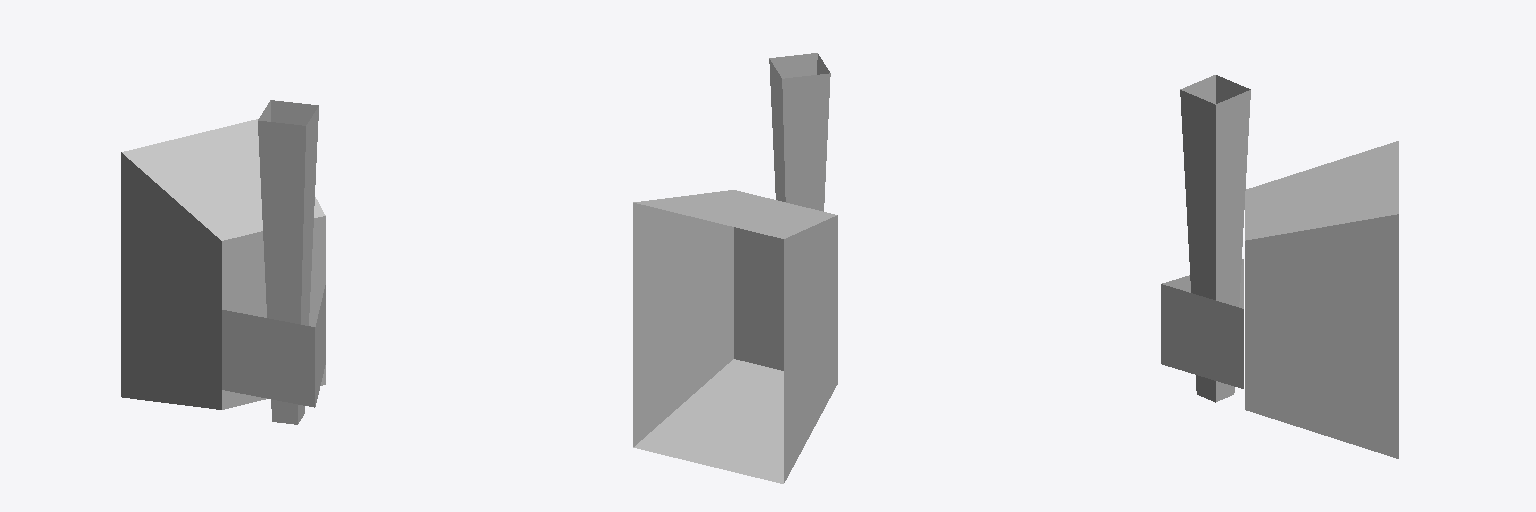
Rendered from torch.obj.
The picture shows the model from 3 angles: view 1: azimuth 30°, elevation 25°; view 2: azimuth 150°, elevation 25°; view 3: azimuth 270°, elevation 25°; orthographic projection.
Visible parts, largest first — view 1: Geoset_000.001, Geoset_000; view 2: Geoset_000.001, Geoset_000; view 3: Geoset_000.001, Geoset_000.
Boxes of the visible parts, x1=… form: Geoset_000.001: x1=121, y1=119, x2=325, y2=409; Geoset_000: x1=258, y1=100, x2=318, y2=424; Geoset_000.001: x1=633, y1=190, x2=837, y2=483; Geoset_000: x1=769, y1=53, x2=830, y2=211; Geoset_000.001: x1=1161, y1=141, x2=1398, y2=458; Geoset_000: x1=1180, y1=75, x2=1250, y2=402.
Bounding box in the file's own units: 0.4881 × 1.03 × 0.6669.